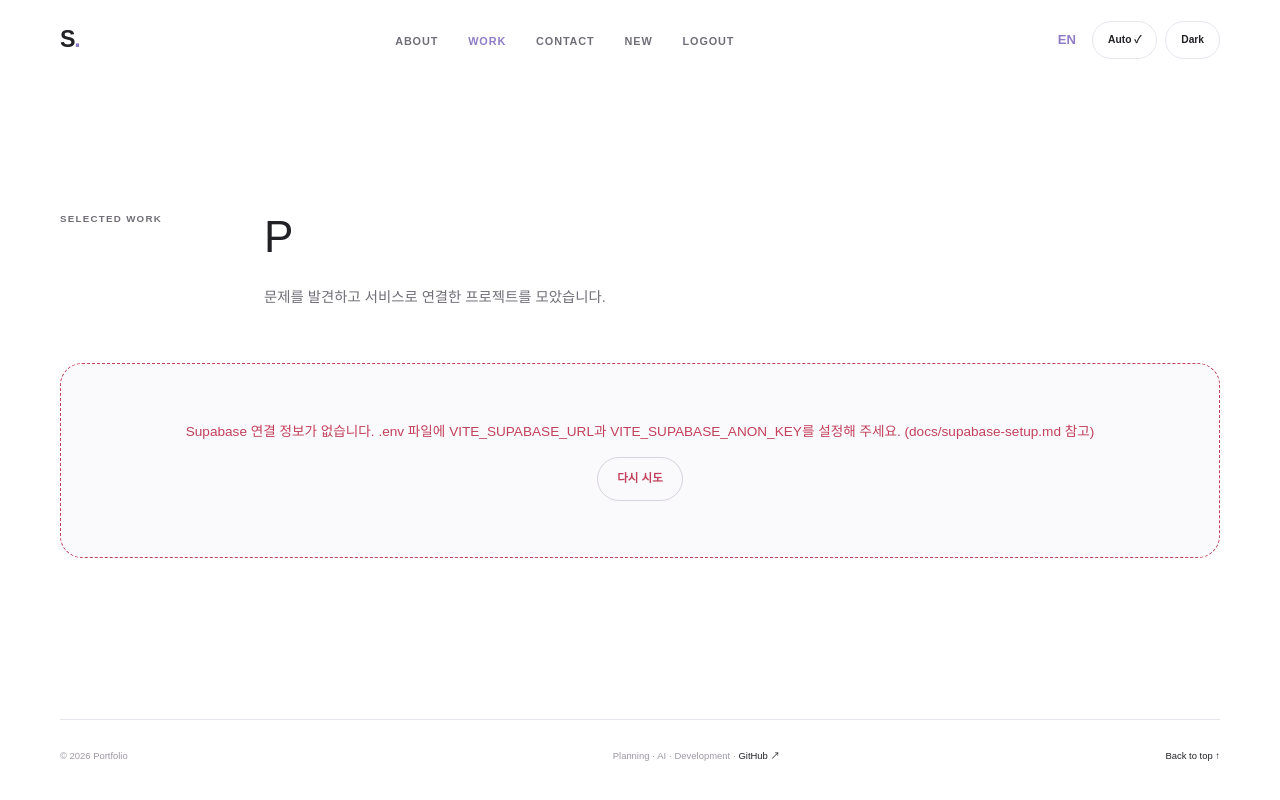
Test: 목록 화면 (/projects) › Supabase 설정이 없으면 원인을 알려 주고 다시 시도할 수 있다
This screenshot has width=1280, height=800.
Check: the message shows "Supabase 연결 정보가 없습니다", box [186, 424, 1094, 439]
Click the button "다시 시도": click(640, 479) [597, 457, 683, 501]
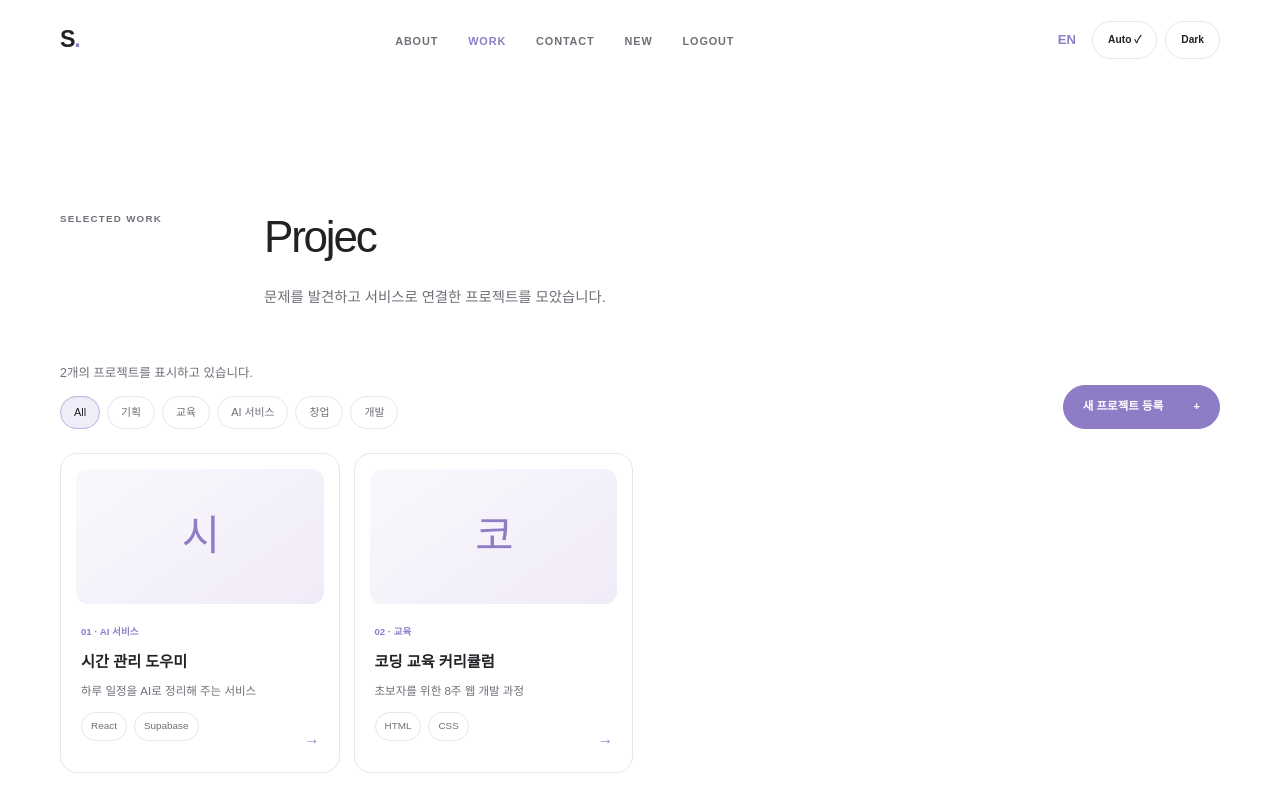
Check: the heading "시간 관리 도우미" is shown, box [81, 653, 187, 670]
